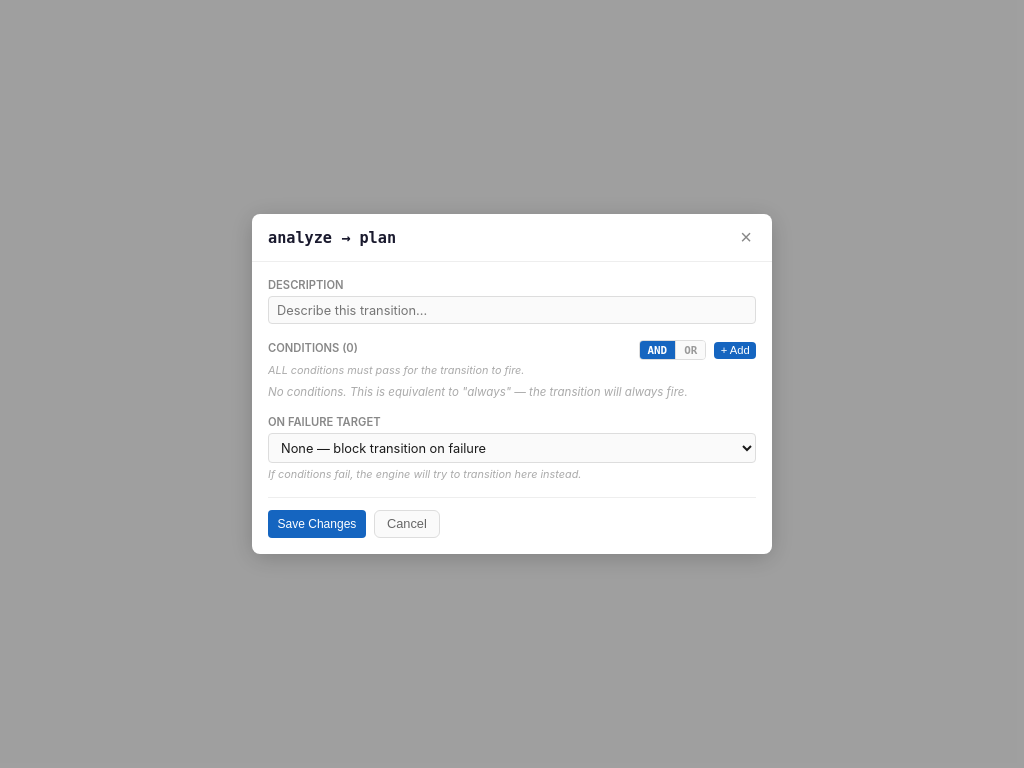
Test case: EdgeEditor › conditions › adds a condition when + Add is clicked
This screenshot has width=1024, height=768.
Click the button "+ Add".
click(735, 350)  # box [714,342,756,359]
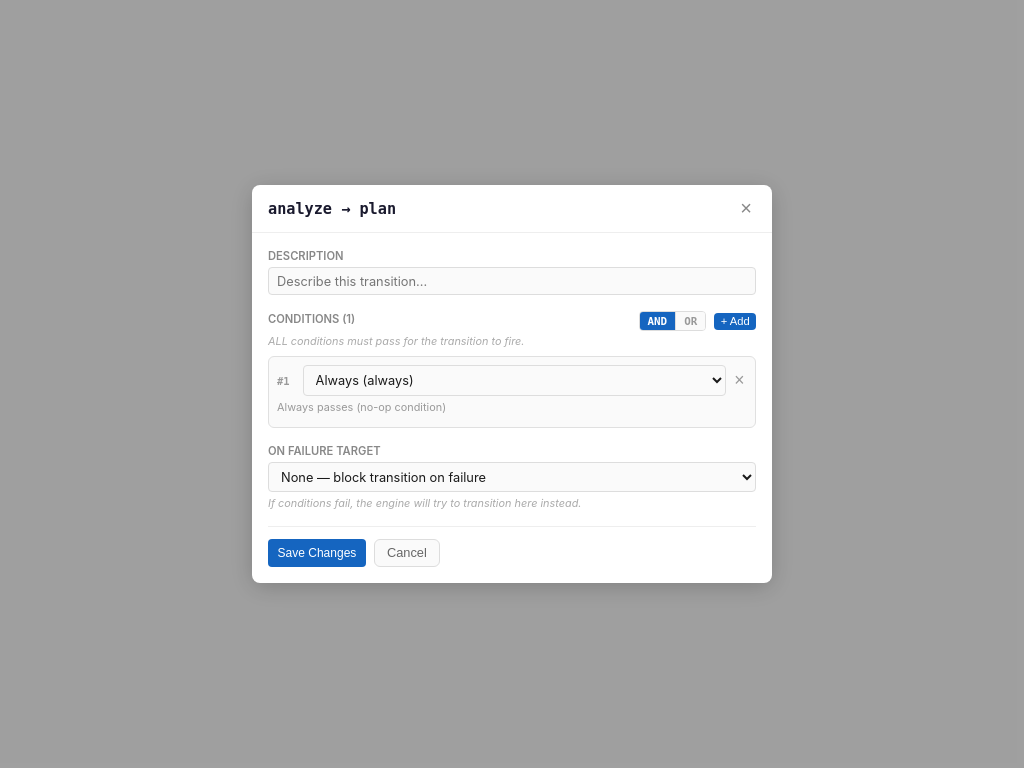
Now the text "#1" is shown, box [277,374,290,386]
